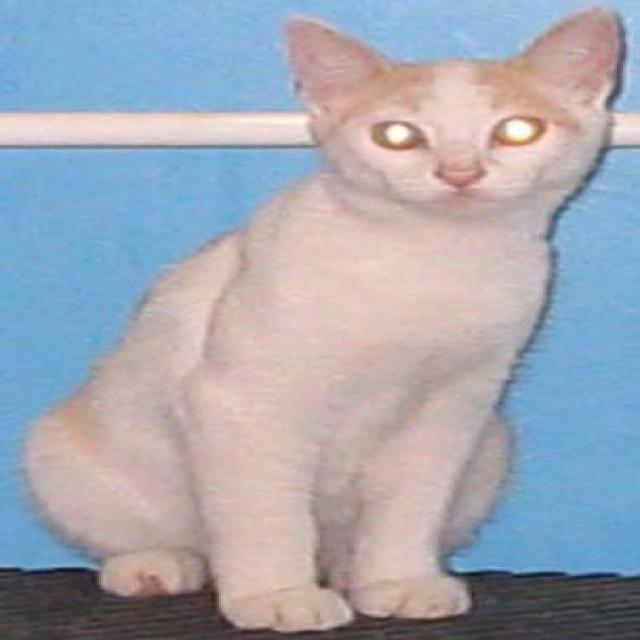cat: (17, 6, 629, 632)
